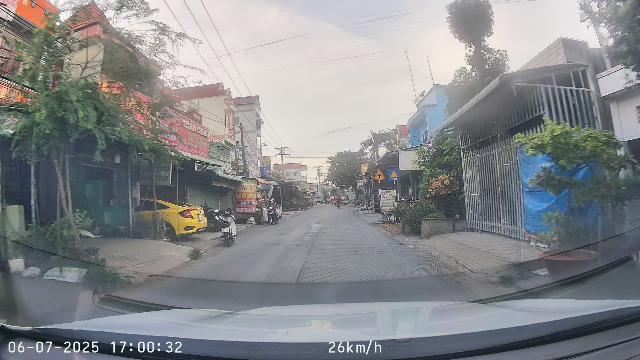442-cho: (387, 169, 400, 181)
